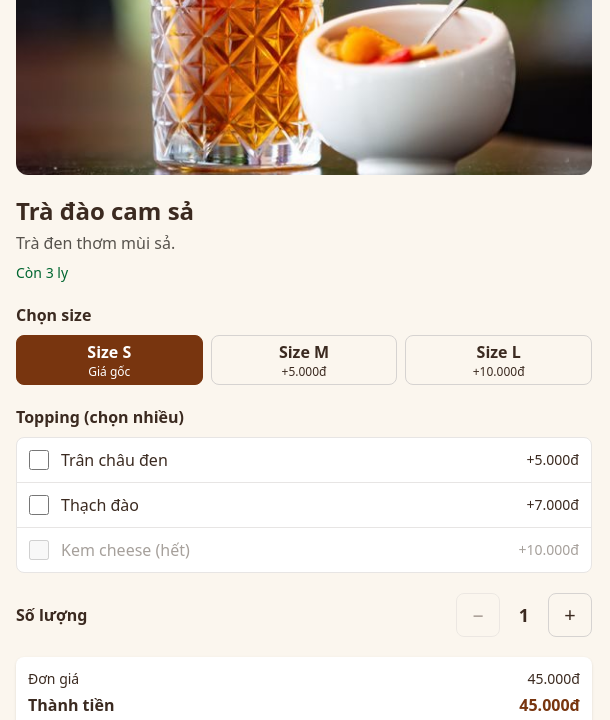
Màn chi tiết món (CT-25 – CT-31) › CT-26: đổi size, topping, số lượng thì giá cập nhật ngay theo BR-01
(page scrolled)
Check: the heading "Trà đào cam sả" is shown, box [16,194,194,227]
Click the radio button labelled "Size L +10.000đ": (499, 360) [405,335,592,385]
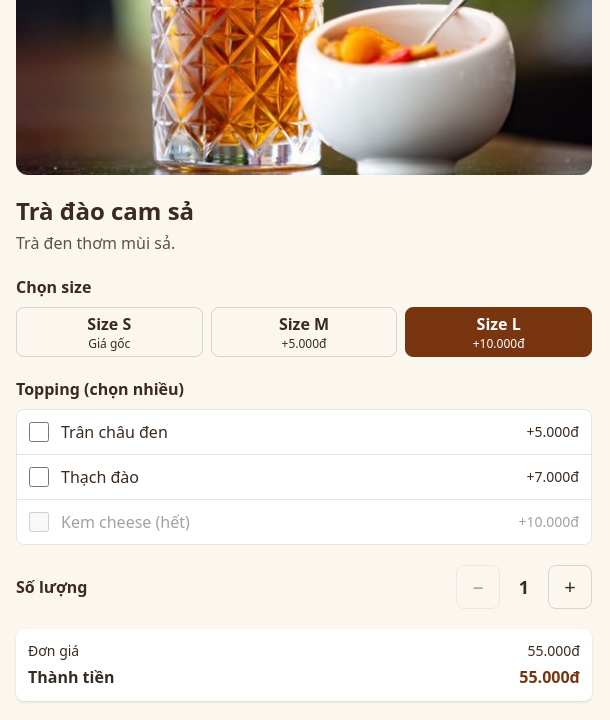
Check: the text "55.000đ" in the row of "Đơn giá" is shown, box [528,641,580,660]
Click the checkbox labelled "Trân châu đen +5.000đ": (39, 432) [29,422,49,442]
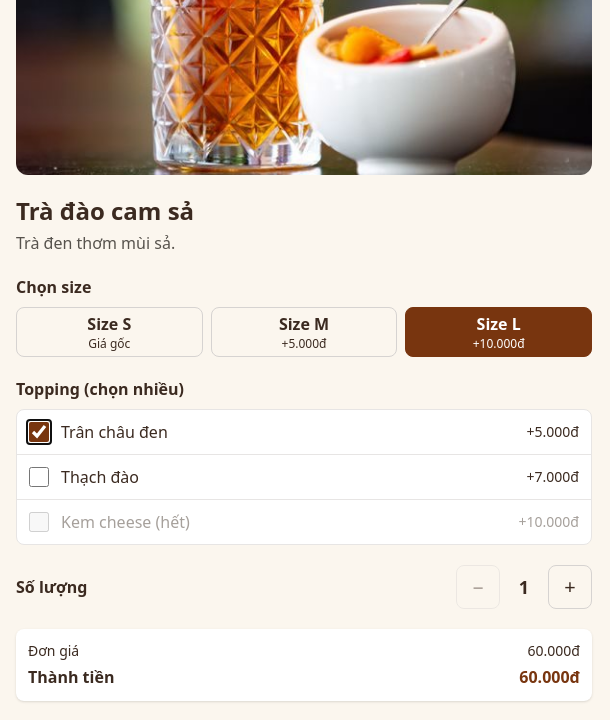
Click the checkbox labelled "Thạch đào +7.000đ": (39, 477) [29,467,49,487]
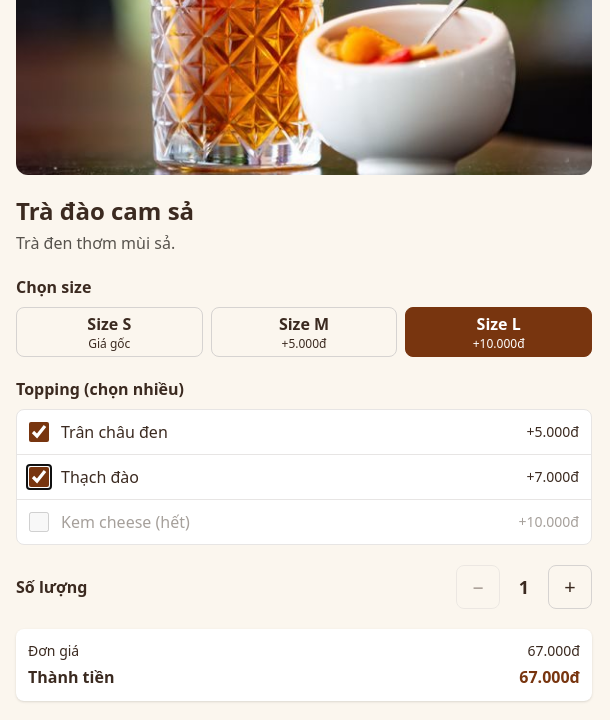
Check: the text "67.000đ" in the row of "Đơn giá" is shown, box [528,641,580,660]
Click the button named "Tăng số lượng": (570, 587) [548,565,592,609]
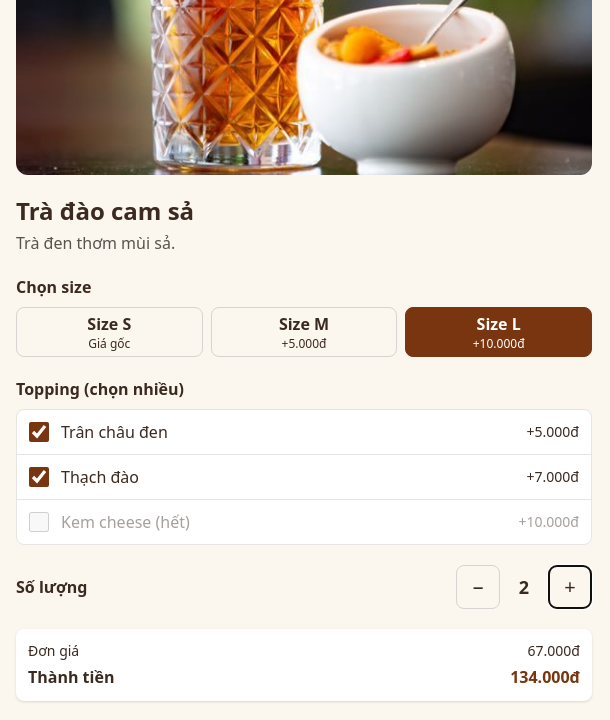
Check: the text "134.000đ" is shown, box [510,665,580,689]
Bỏ chọn topping thì trừ lại đúng giá topping đó
Click the checkbox labelled "Thạch đào +7.000đ": (39, 477) [29,467,49,487]
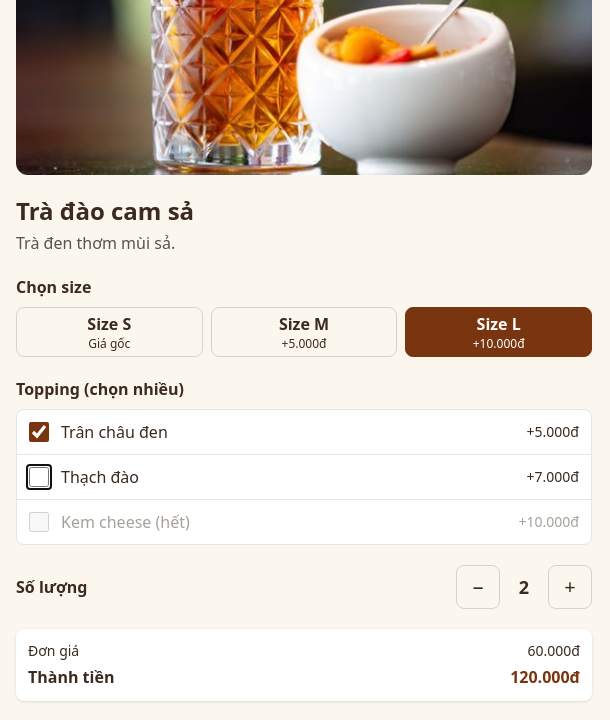
Check: the text "60.000đ" is shown, box [528,641,580,661]
